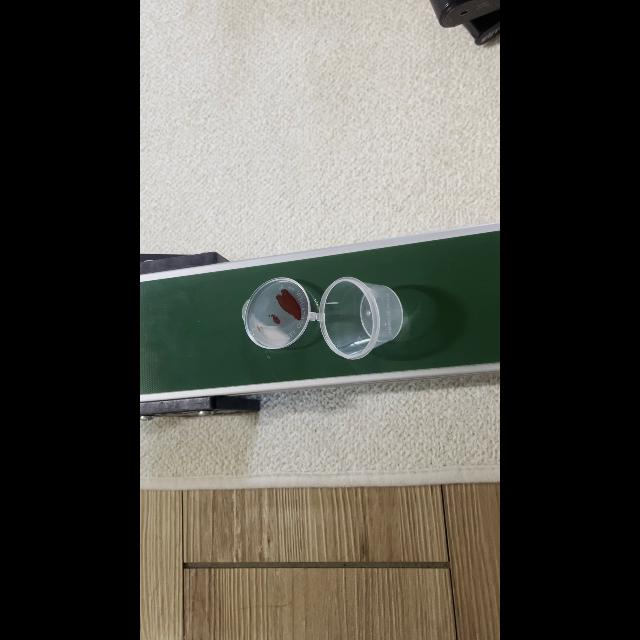dirty: (247, 282, 397, 346)
